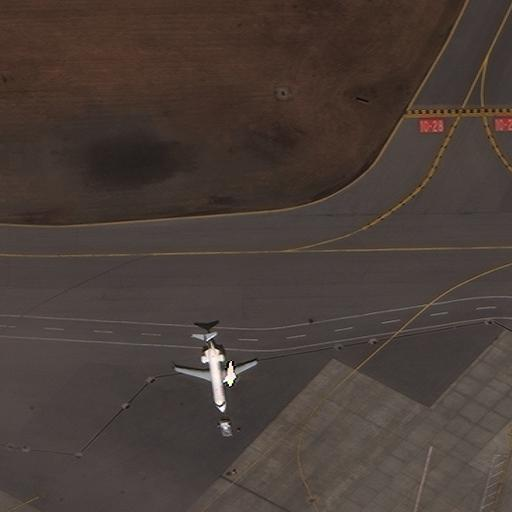Medium Civil Transport: (174, 332, 258, 413)
